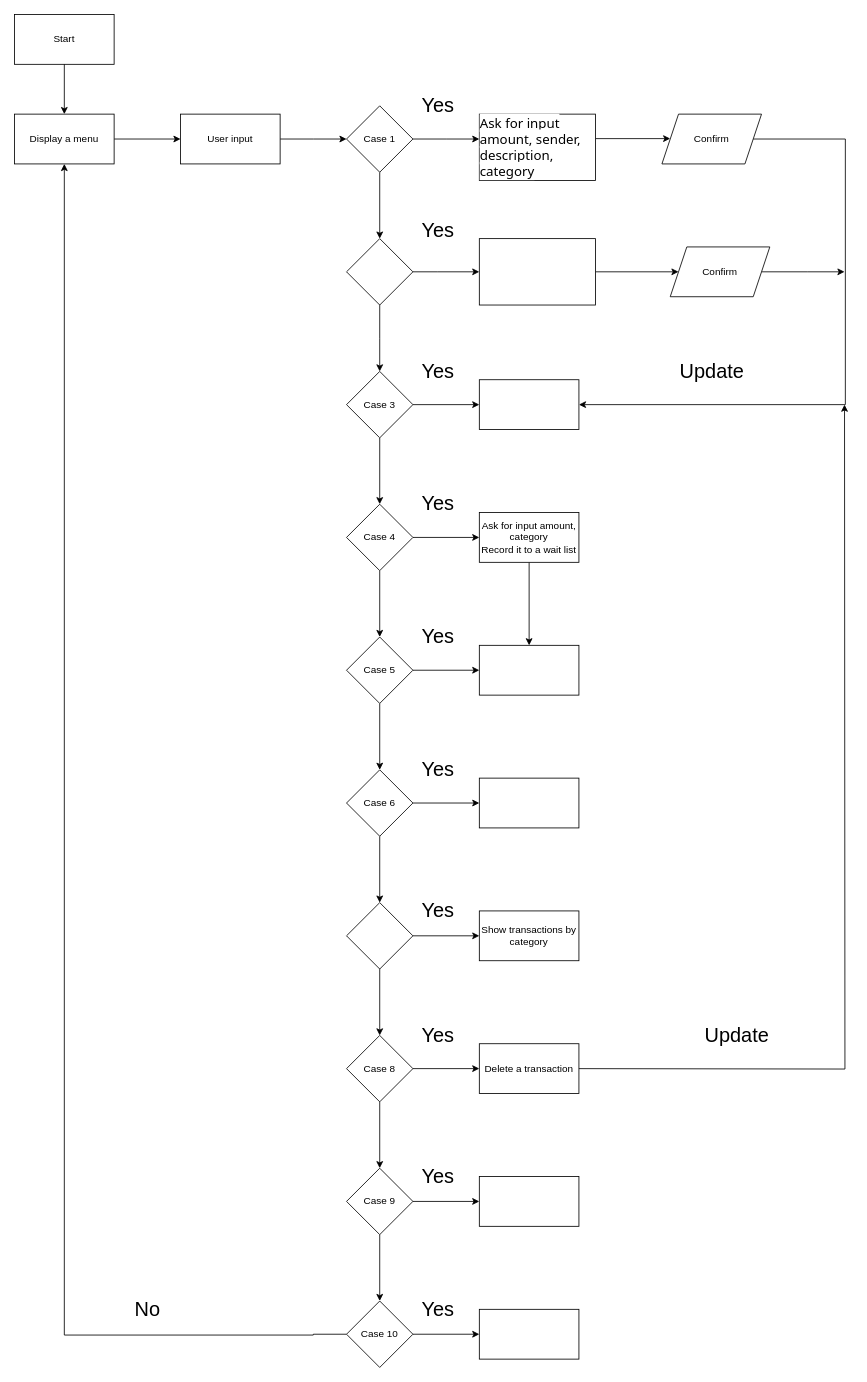
The diagram is 867 pixels wide and 1382 high, and some of its shapes have lost their labels. Each missing label, with the box of its shape:
Ask for input amount, receiver, description, category: (478, 238, 596, 305)
Case 2: (346, 238, 413, 305)
Case 7: (346, 902, 413, 969)
End: (478, 1308, 579, 1359)
Process case 4: (478, 644, 579, 695)
Show account balance: (478, 379, 579, 430)
Show account summary with amount updated: (478, 1176, 579, 1226)
Show transaction history: (478, 777, 579, 828)
